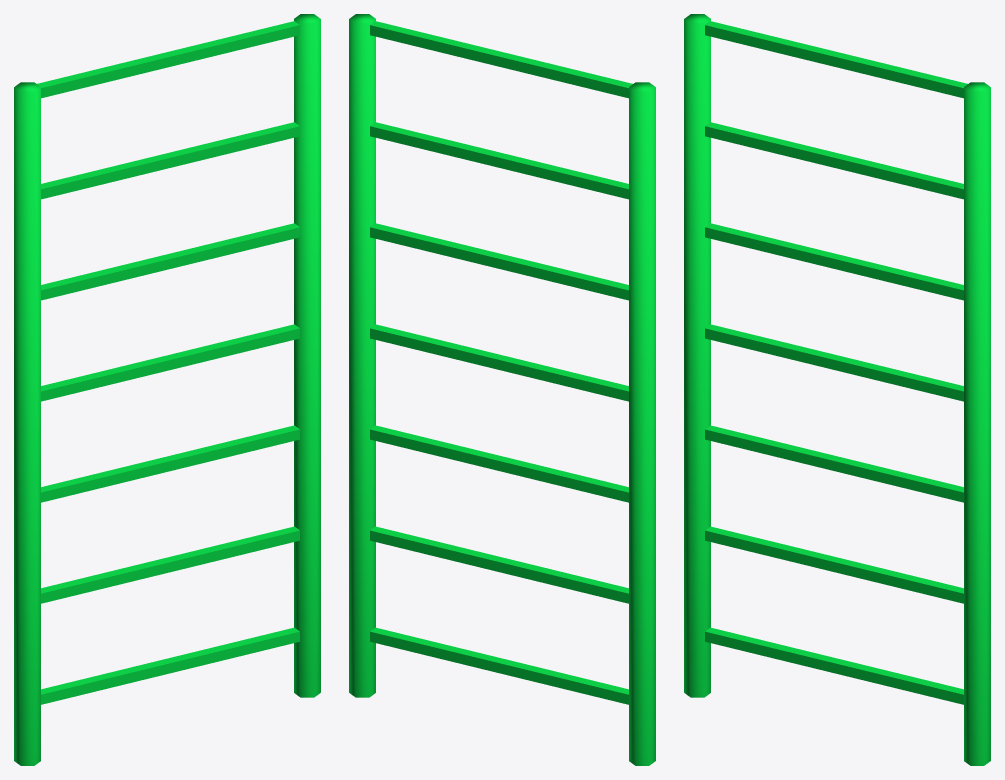
The model's file is Ladder.fbx.
The picture shows the model from 3 angles, left to right: view 1: azimuth 30°, elevation 25°; view 2: azimuth 150°, elevation 25°; view 3: azimuth 330°, elevation 25°; orthographic projection.
Visible parts, largest first — view 1: Ladder; view 2: Ladder; view 3: Ladder.
Part boxes in pixels (box(x1,y1,x2,y2)): Ladder: box(14, 14, 320, 765); Ladder: box(349, 14, 655, 765); Ladder: box(684, 14, 990, 765).
Size of the model in its own units: 93.16 by 200 by 7.24.
